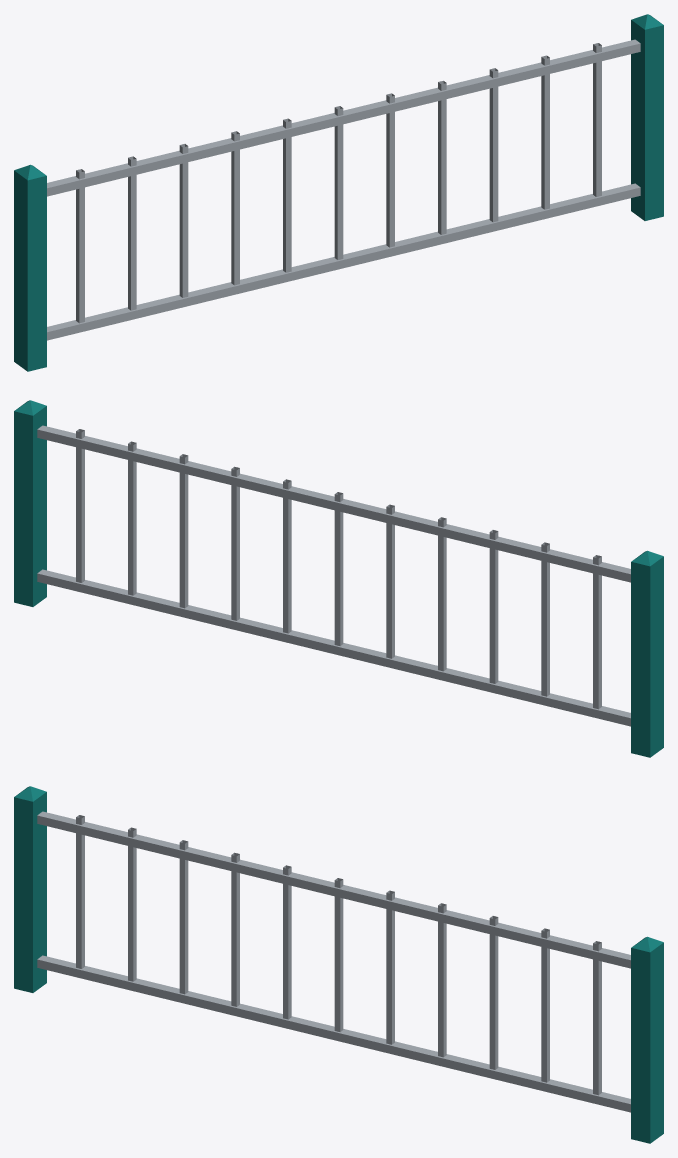
The model's file is Valla.fbx.
3 views of the same model, one above another, from view 1: azimuth 30°, elevation 25°; view 2: azimuth 150°, elevation 25°; view 3: azimuth 330°, elevation 25° (orthographic).
Parts seen in each view (by area): view 1: Valla; view 2: Valla; view 3: Valla.
Boxes of the visible parts, x1,y1,x2,y2 form: Valla: (14, 14, 663, 371); Valla: (14, 400, 663, 757); Valla: (14, 786, 663, 1143).
Size of the model in its own units: 8 by 2.4 by 0.3.
1 material, 1 textured.
